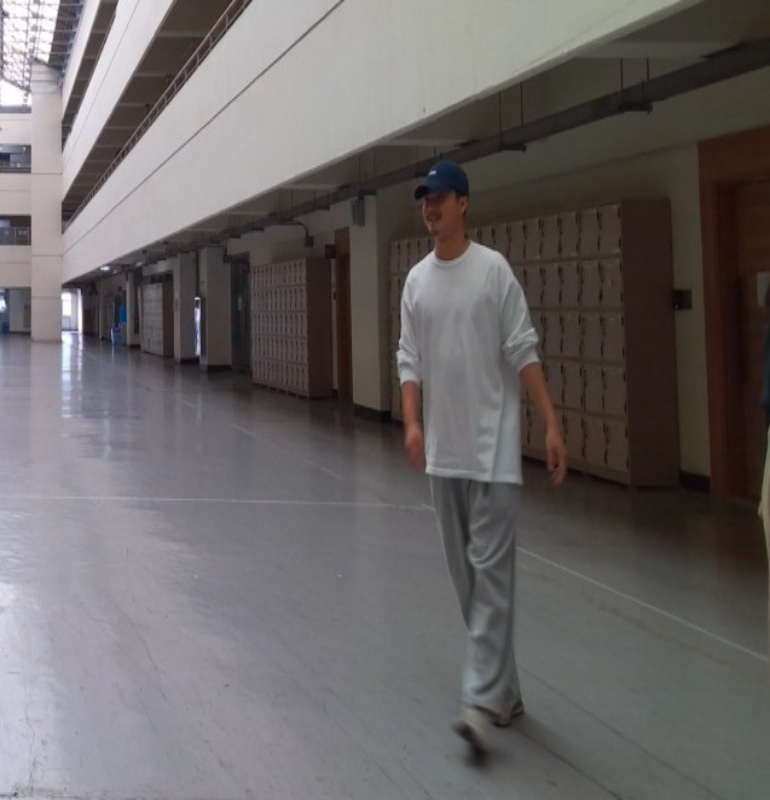person: (396, 157, 569, 752)
